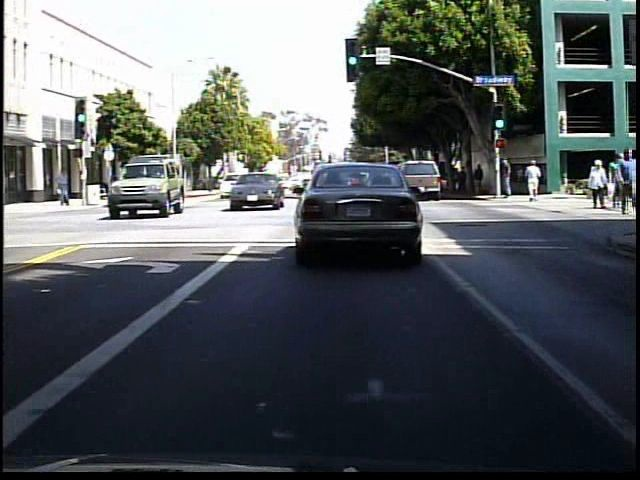person: (584, 159, 611, 211), (617, 149, 637, 216), (523, 158, 544, 205), (495, 156, 515, 205), (57, 167, 77, 209), (473, 163, 488, 196), (459, 165, 472, 197)
